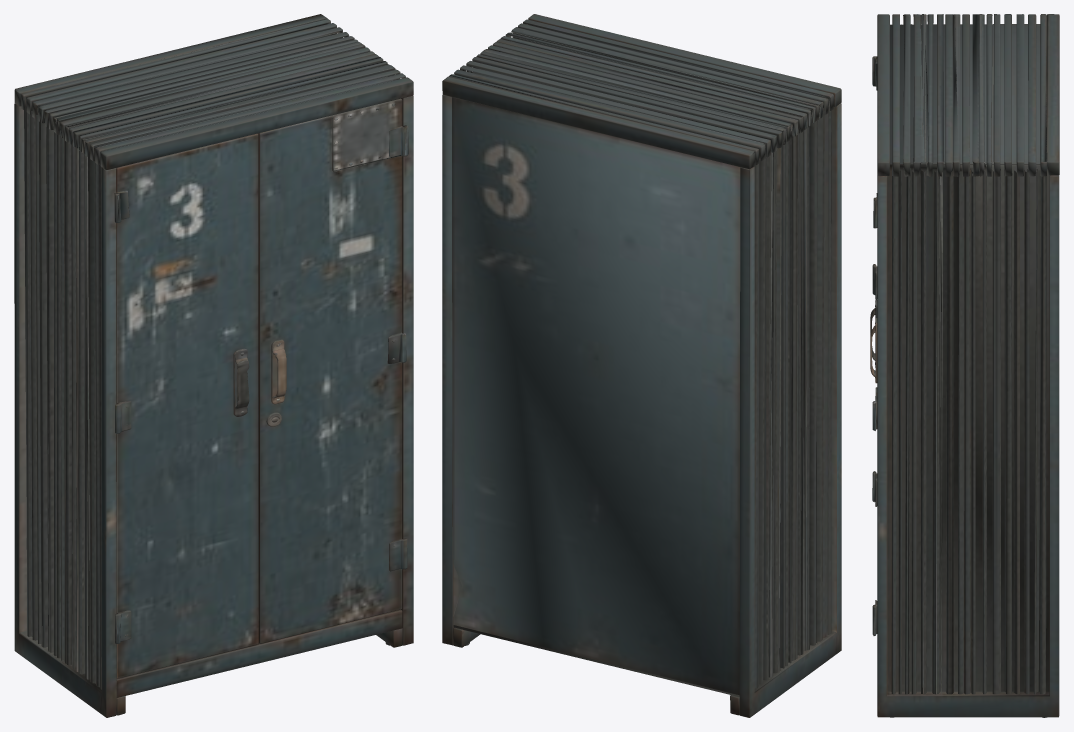
Rendered from cabinet-tall-t25.glb.
3 renders of one model, left to right at view 1: azimuth 30°, elevation 25°; view 2: azimuth 150°, elevation 25°; view 3: azimuth 270°, elevation 25°, orthographic.
Visible parts, largest first — view 1: cabinet-tall-t25; view 2: cabinet-tall-t25; view 3: cabinet-tall-t25.
Boxes of the visible parts, bbox=[...] form: cabinet-tall-t25: bbox=[14, 14, 413, 717]; cabinet-tall-t25: bbox=[442, 14, 841, 717]; cabinet-tall-t25: bbox=[870, 14, 1059, 717].
Size of the model in its own units: 1.08 by 1.9 by 0.583.
Materials: 1 (1 with a texture image).
